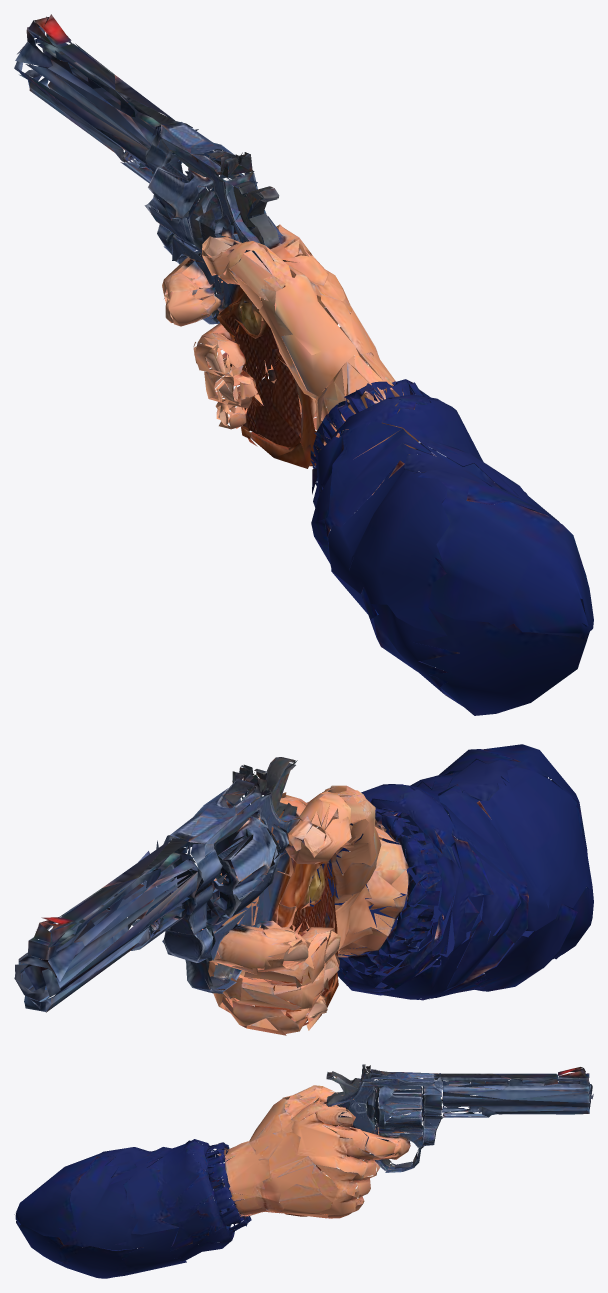
The model's file is viewmodel_revolver_low.glb.
3 views of the same model, one above another, from view 1: azimuth 30°, elevation 25°; view 2: azimuth 150°, elevation 25°; view 3: azimuth 270°, elevation 25° (orthographic). The views are drawn at different scales.
Visible parts, largest first — view 1: Mesh_0; view 2: Mesh_0; view 3: Mesh_0.
Boxes of the visible parts, x1,y1,x2,y2 form: Mesh_0: (14,14,593,715); Mesh_0: (14,744,593,1035); Mesh_0: (14,1064,593,1278).
Bounding box in the file's own units: 0.1176 × 0.2249 × 0.5751.
1 material, 1 textured.
